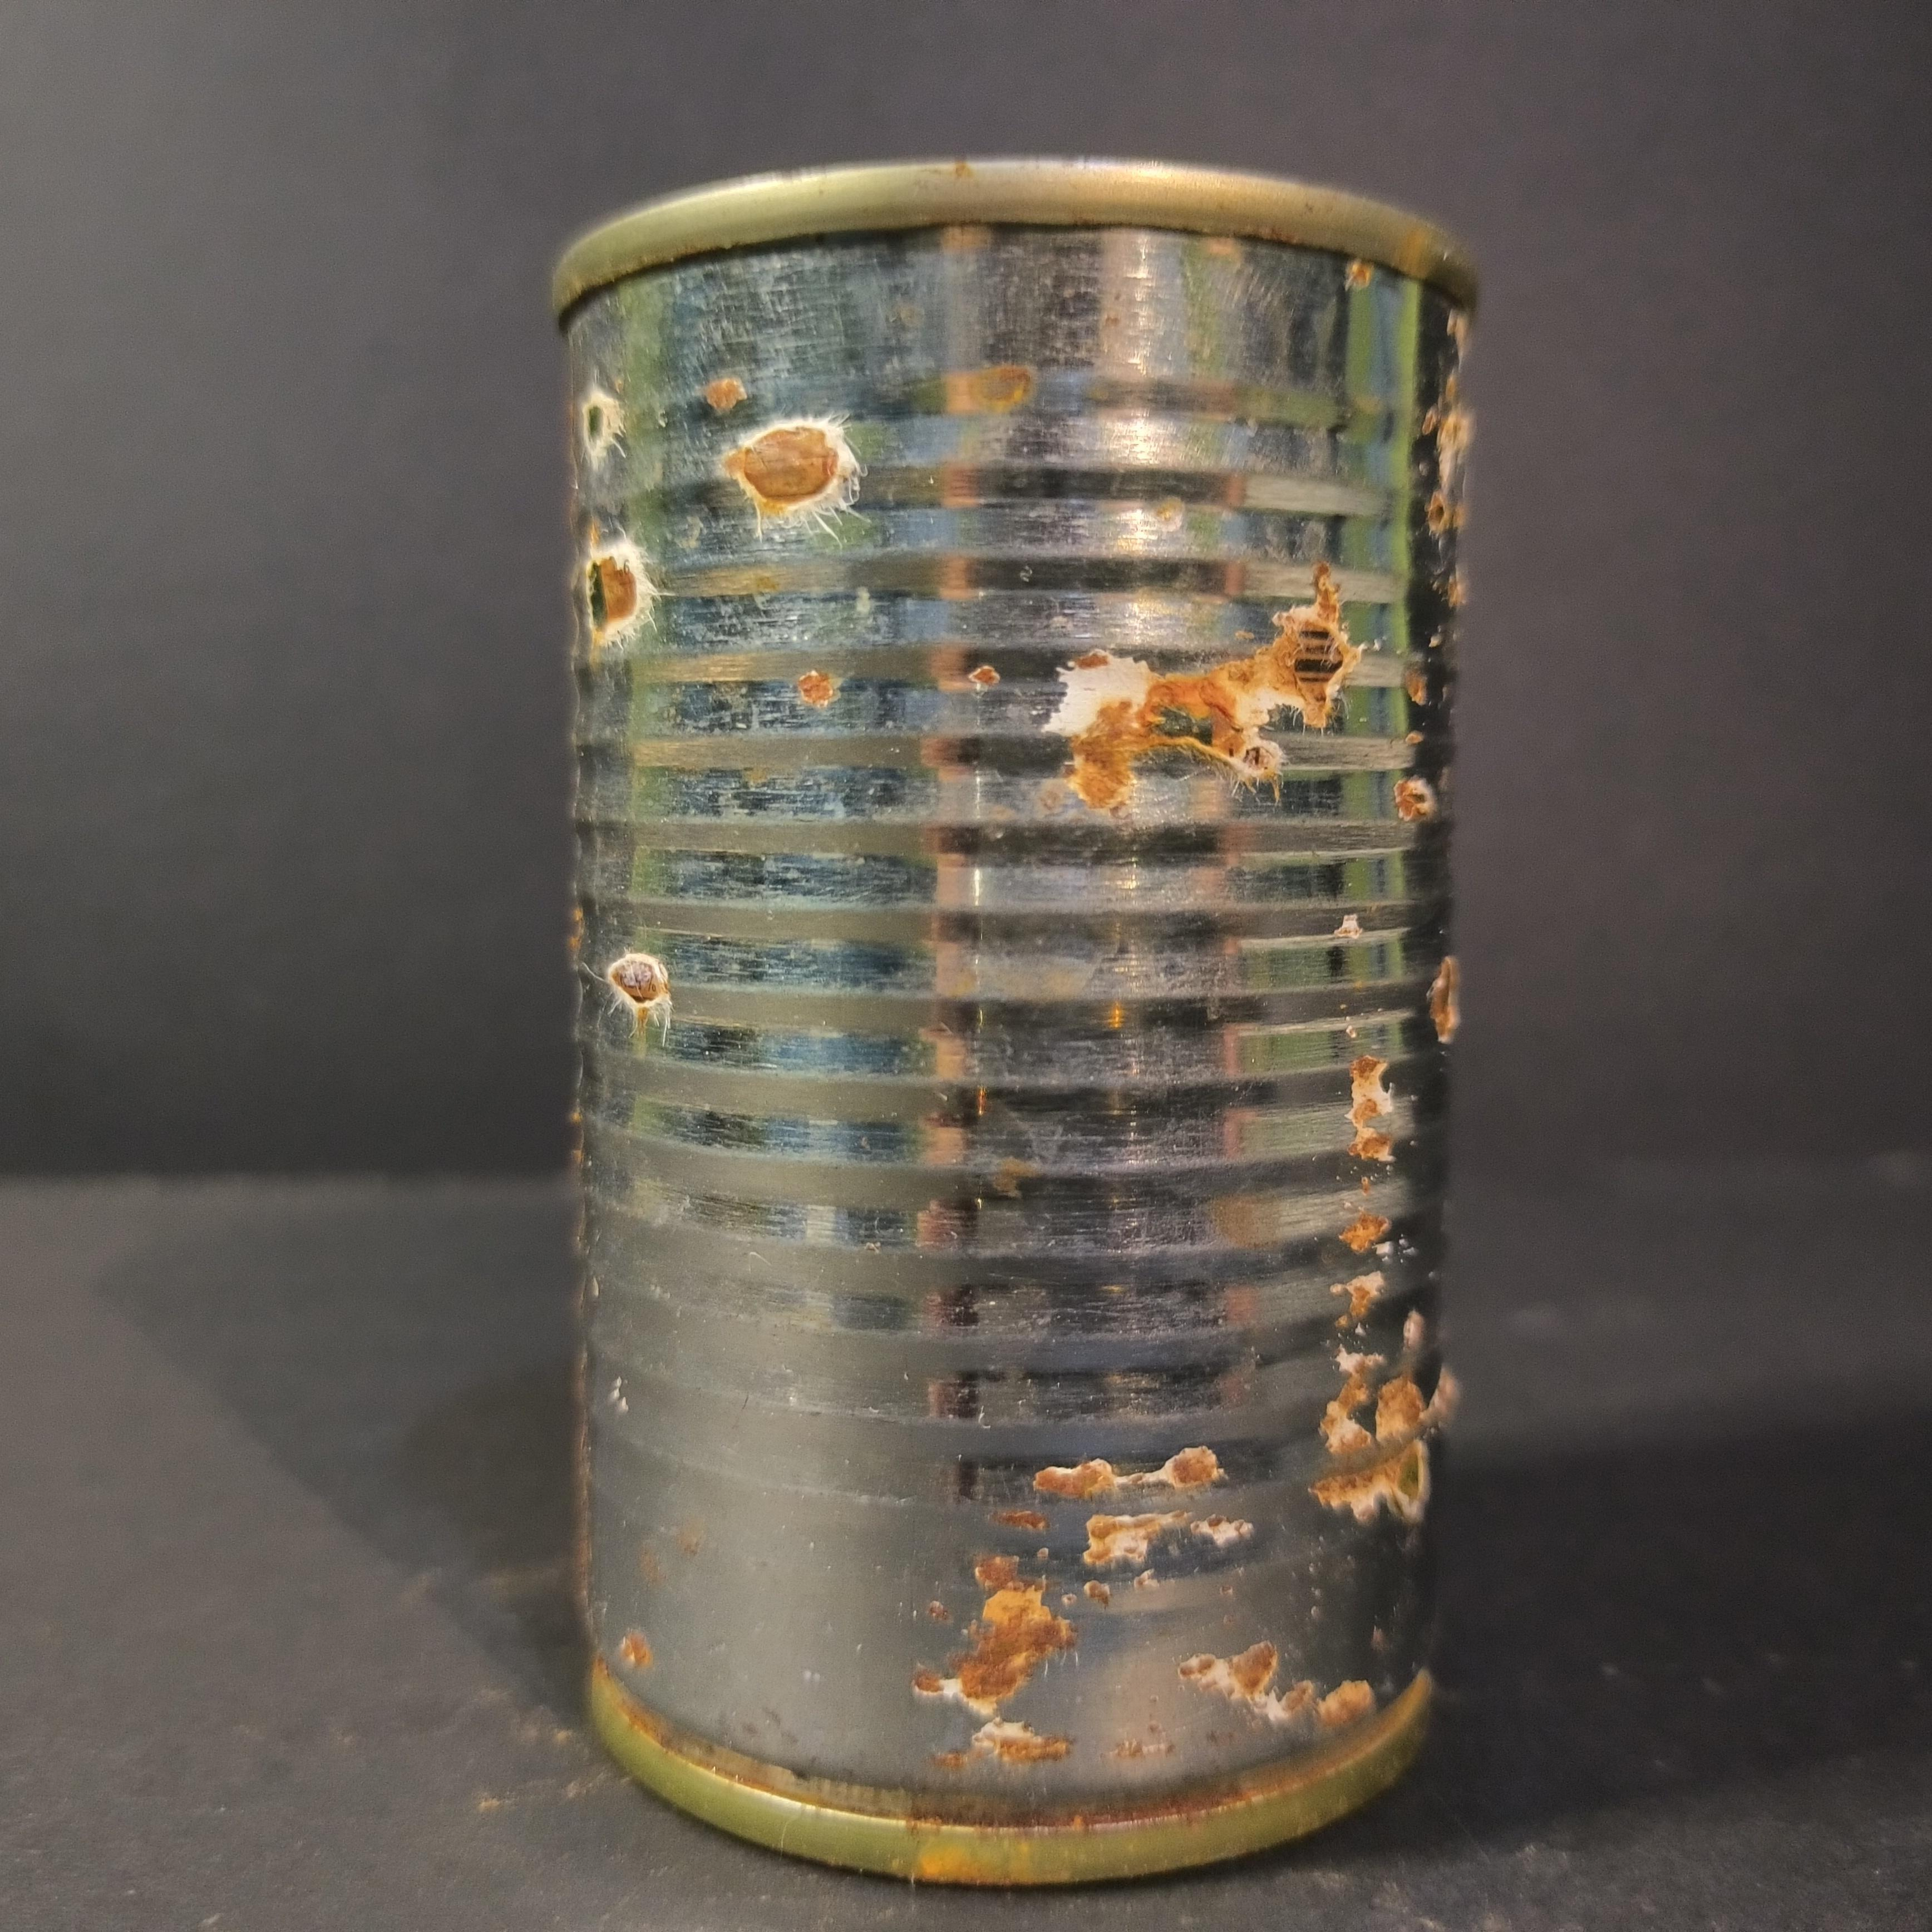Rusted: (548, 126, 1483, 1918)
